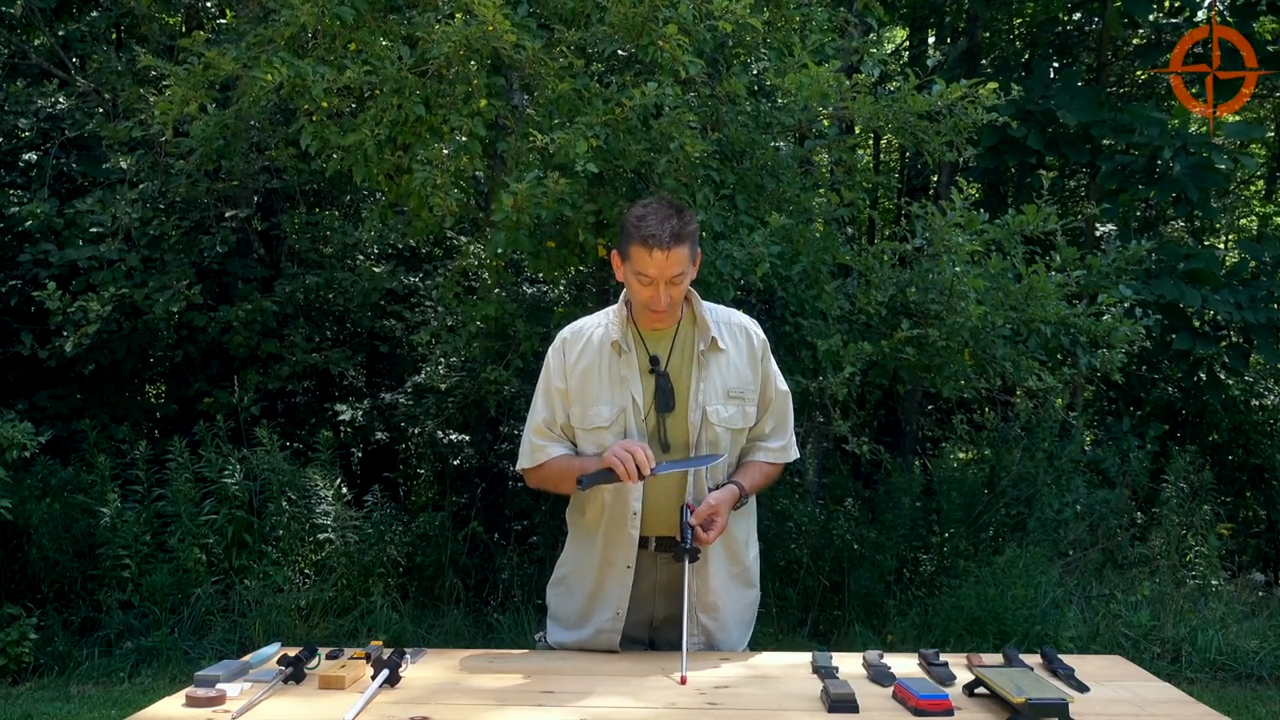knife: (571, 448, 733, 497)
